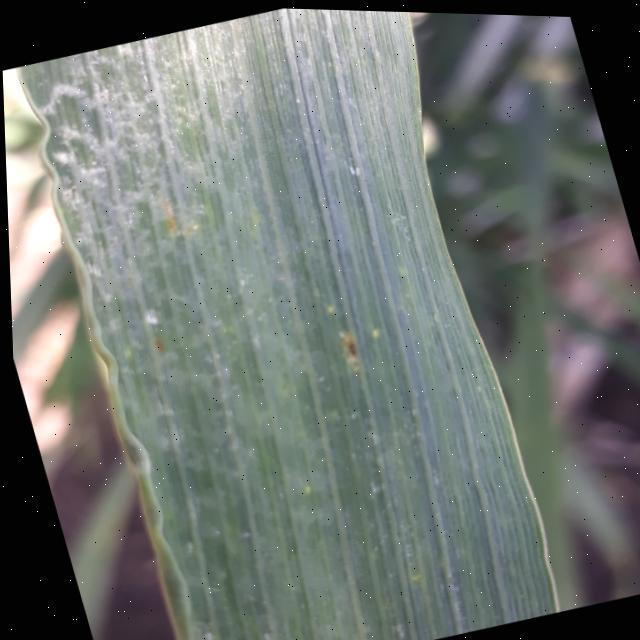orang_rust: (0, 0, 596, 640)
